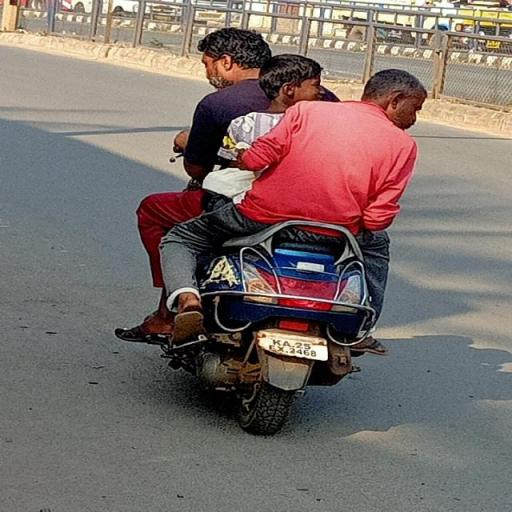bike: (112, 18, 442, 438)
numberplate: (258, 327, 334, 367)
withouthelmet: (260, 55, 323, 106), (206, 28, 263, 78), (368, 71, 424, 116)
